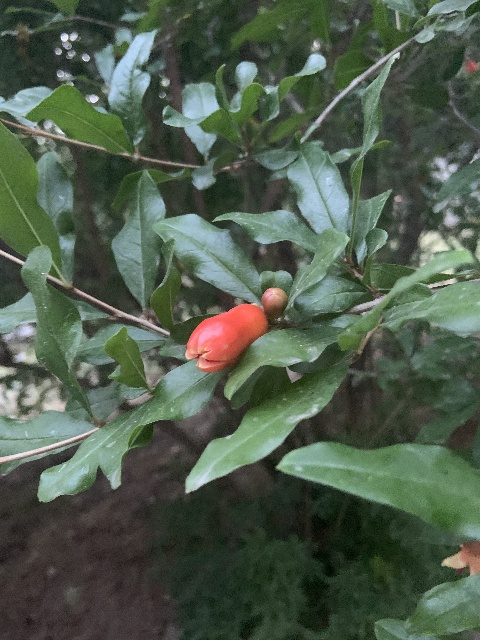bud: (261, 286, 287, 318)
flower: (185, 302, 267, 373)
